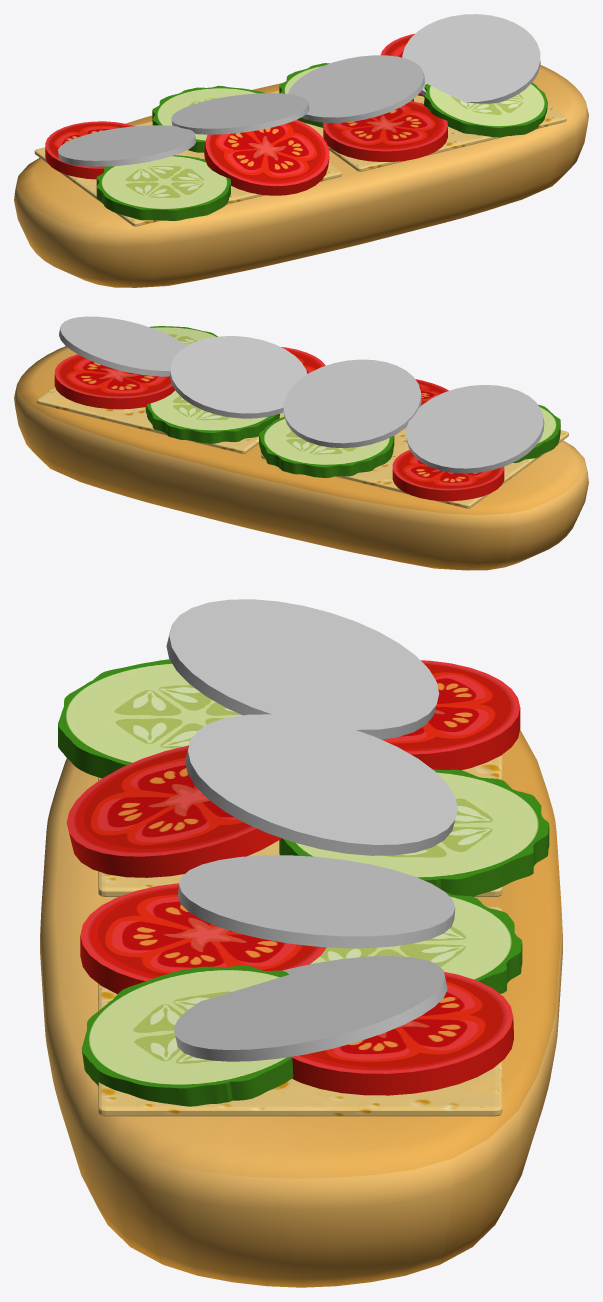
Rendered from Subway_Bottom with veggies.fbx.
3 renders of one model, top to bottom at view 1: azimuth 30°, elevation 25°; view 2: azimuth 150°, elevation 25°; view 3: azimuth 270°, elevation 25°, orthographic. The views are drawn at different scales.
Parts seen in each view (by area): view 1: Cube.002, Cylinder.002, tomato.003, cucumber.003, Cylinder.003, tomato.001, Cylinder.004, Cylinder.001, cucumber.002, tomato, cucumber.001, cheese bottom (+3 smaller); view 2: Cube.002, Cylinder.004, Cylinder.001, Cylinder.003, Cylinder.002, cucumber.001, tomato.002, cucumber, tomato, cheese bottom, cheese bottom.001, cucumber.003 (+3 smaller); view 3: Cube.002, Cylinder.001, Cylinder.004, Cylinder.003, Cylinder.002, cucumber.002, tomato.003, tomato.002, tomato.001, cucumber.001, cucumber.003, cheese bottom (+3 smaller).
Part boxes in pixels (bbox=[...]): Cube.002: bbox=[14, 65, 588, 287]; Cylinder.002: bbox=[402, 14, 540, 103]; tomato.003: bbox=[204, 120, 329, 195]; cucumber.003: bbox=[96, 155, 230, 220]; Cylinder.003: bbox=[288, 55, 424, 122]; tomato.001: bbox=[323, 101, 447, 161]; Cylinder.004: bbox=[58, 125, 195, 166]; Cylinder.001: bbox=[171, 93, 309, 134]; cucumber.002: bbox=[423, 82, 547, 137]; tomato: bbox=[45, 121, 134, 179]; cucumber.001: bbox=[152, 85, 264, 152]; cheese bottom: bbox=[267, 90, 566, 171]; Cube.002: bbox=[14, 346, 588, 570]; Cylinder.004: bbox=[406, 385, 544, 473]; Cylinder.001: bbox=[283, 359, 421, 448]; Cylinder.003: bbox=[170, 336, 307, 418]; Cylinder.002: bbox=[59, 316, 186, 376]; cucumber.001: bbox=[259, 417, 394, 477]; tomato.002: bbox=[54, 354, 175, 409]; cucumber: bbox=[145, 390, 279, 443]; tomato: bbox=[392, 450, 504, 501]; cheese bottom: bbox=[36, 387, 284, 453]; cheese bottom.001: bbox=[261, 427, 568, 508]; cucumber.003: bbox=[513, 404, 560, 462]; Cube.002: bbox=[40, 729, 562, 1287]; Cylinder.001: bbox=[185, 714, 457, 855]; Cylinder.004: bbox=[166, 599, 439, 739]; Cylinder.003: bbox=[178, 855, 455, 948]; Cylinder.002: bbox=[173, 956, 447, 1061]; cucumber.002: bbox=[81, 965, 293, 1106]; tomato.003: bbox=[66, 745, 281, 877]; tomato.002: bbox=[291, 972, 513, 1095]; tomato.001: bbox=[80, 883, 326, 993]; cucumber.001: bbox=[279, 769, 549, 896]; cucumber.003: bbox=[58, 659, 242, 778]; cheese bottom: bbox=[98, 906, 502, 1116].
Bounding box in the file's own units: 554 × 129 × 234.
